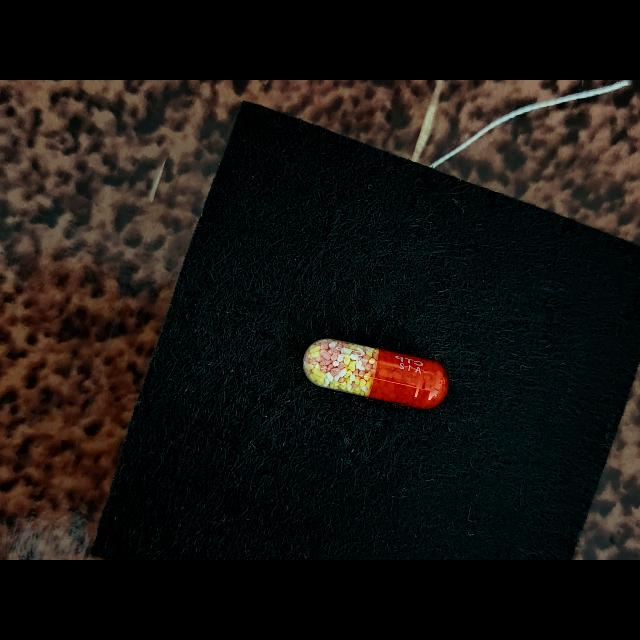Intact Capsule: (303, 339, 449, 409)
